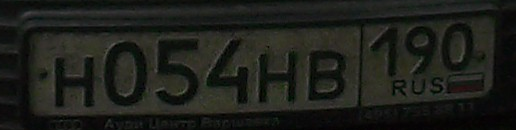character: (100, 37, 149, 112), (205, 36, 253, 110), (153, 36, 203, 107), (52, 53, 100, 115), (303, 46, 350, 105), (254, 49, 300, 105), (437, 21, 477, 74), (402, 24, 438, 81), (368, 25, 400, 80)
